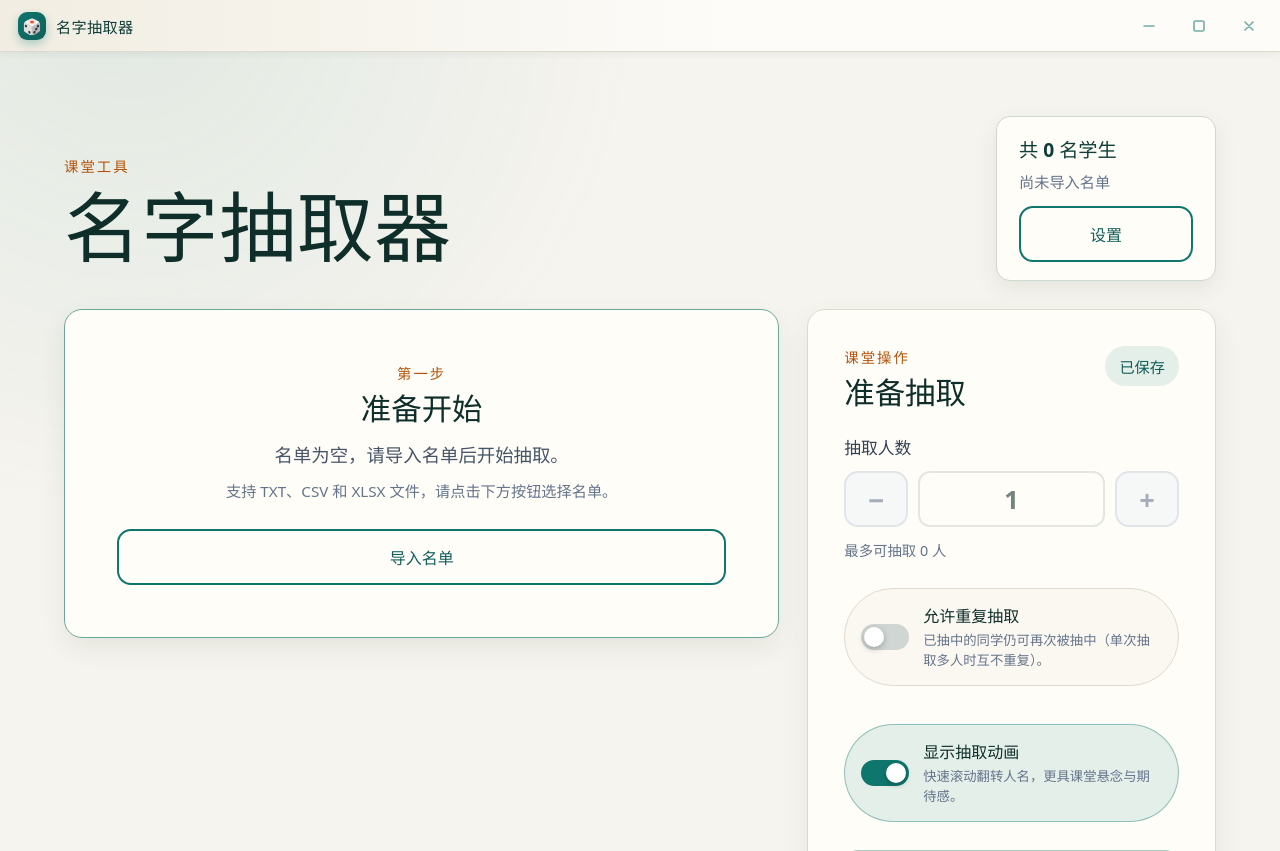
课堂主界面 › 导入名单后显示人数并保存状态
The image size is (1280, 851).
expect the text "名单为空，请导入名单后开始抽取。" is shown: met, box [274,442,569,468]
Click the button "导入名单": coordinates (422, 557) [117,529,726,585]
(page scrolled)
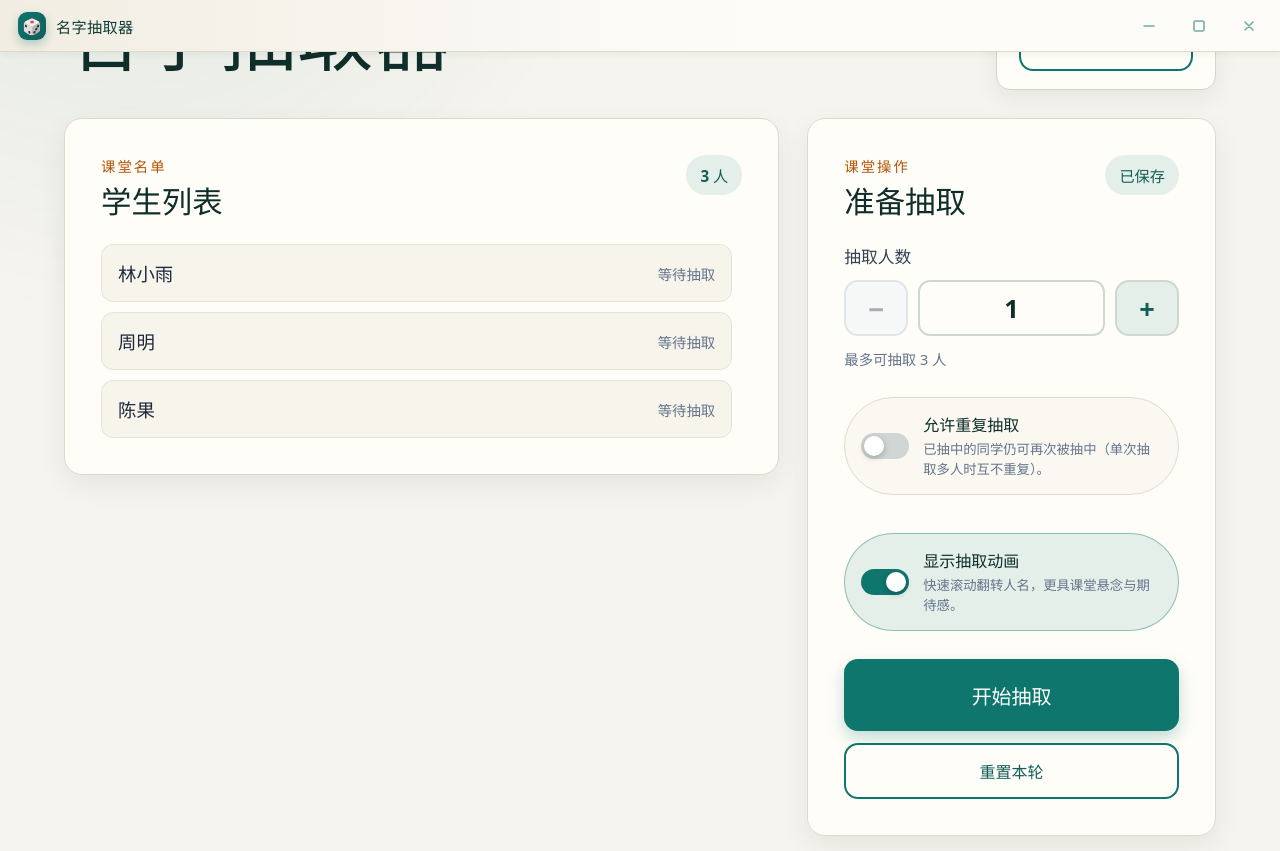
expect the button "开始抽取" is enabled: met, box [844,659,1179,731]
